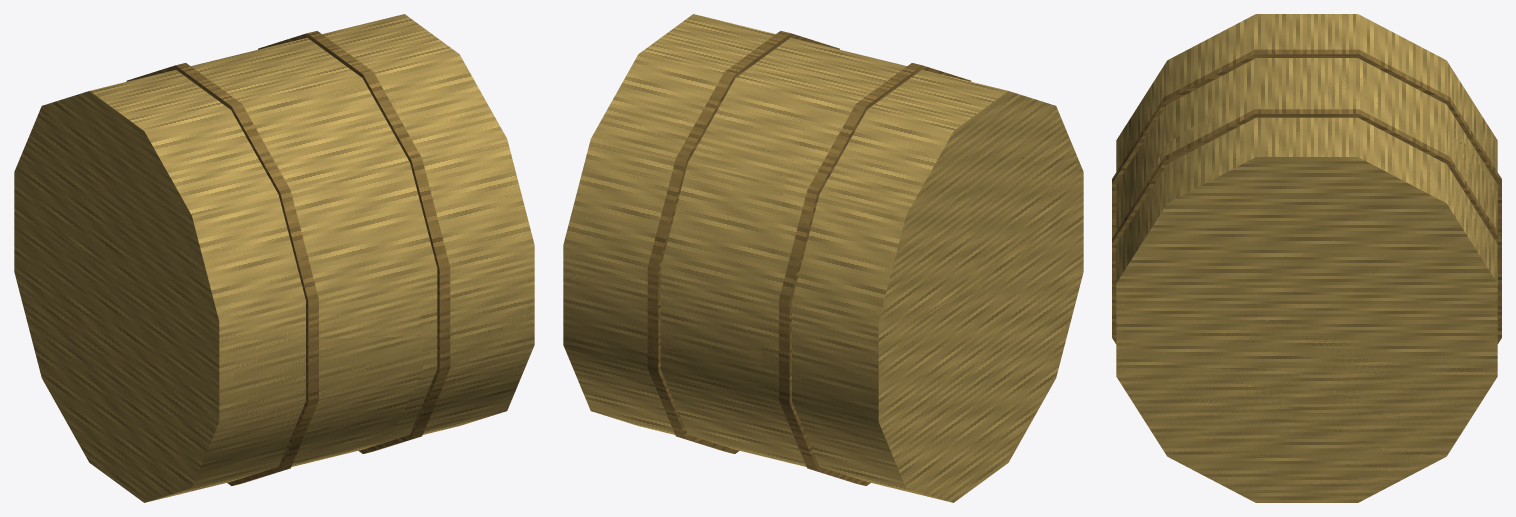
File: fardo_redondo.glb
The picture shows the model from 3 angles, left to right: view 1: azimuth 30°, elevation 25°; view 2: azimuth 150°, elevation 25°; view 3: azimuth 270°, elevation 25°; orthographic projection. The views are drawn at different scales.
Visible parts, largest first — view 1: Inteiro, Peca_01, Peca_00, Peca_03, Peca_02; view 2: Inteiro, Peca_01, Peca_03, Peca_00, Peca_02; view 3: Inteiro, Peca_02, Peca_03, Peca_01.
Boxes of the visible parts, x1=… form: Inteiro: x1=14, y1=14, x2=534, y2=502; Peca_01: x1=14, y1=65, x2=421, y2=341; Peca_00: x1=14, y1=206, x2=423, y2=501; Peca_03: x1=231, y1=20, x2=534, y2=337; Peca_02: x1=327, y1=334, x2=534, y2=458; Inteiro: x1=563, y1=14, x2=1083, y2=502; Peca_01: x1=763, y1=65, x2=1083, y2=353; Peca_03: x1=563, y1=17, x2=839, y2=350; Peca_00: x1=760, y1=196, x2=1083, y2=497; Peca_02: x1=591, y1=348, x2=793, y2=463; Inteiro: x1=1112, y1=14, x2=1501, y2=502; Peca_02: x1=1112, y1=308, x2=1501, y2=502; Peca_03: x1=1112, y1=77, x2=1501, y2=376; Peca_01: x1=1112, y1=54, x2=1501, y2=233.
Size of the model in its own units: 1.2 by 1.38 by 1.38.
1 material, 1 textured.
